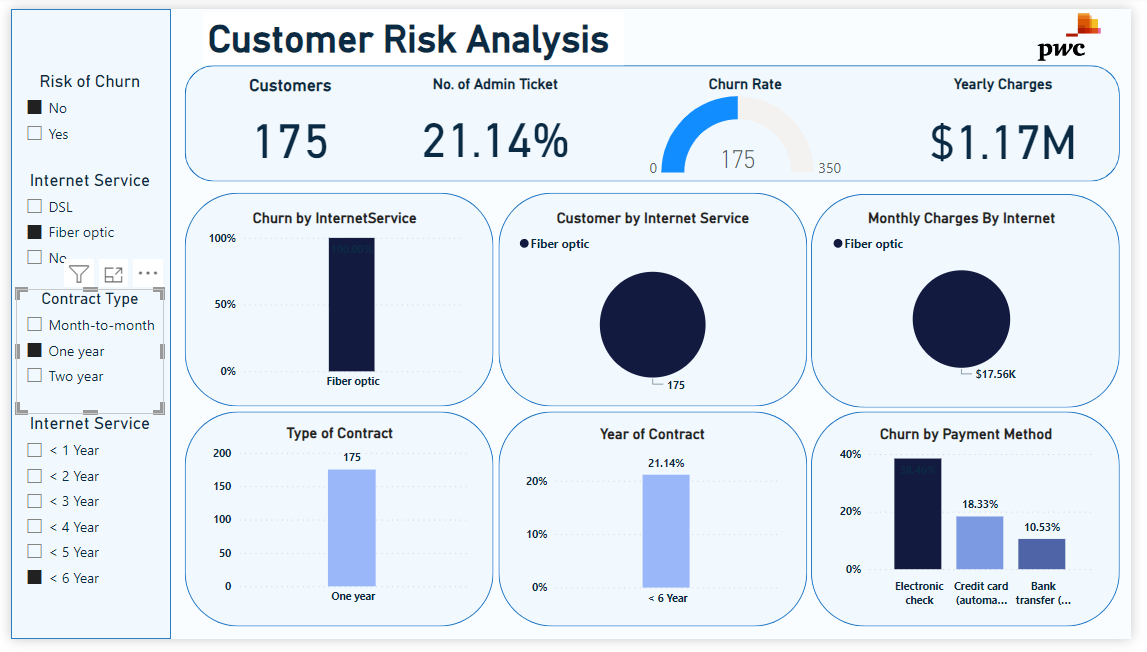

Layout of this report page (visuals, bound fields, positions):
{"tool":"powerbi","page":{"name":"Customer Risk Analysis","canvas":[1280,720],"ordinal":3},"visuals":[{"type":"shape","box":[198.6,210,352.9,244.3],"z":0},{"type":"shape","box":[198.6,64.3,1068.6,132.9],"z":1000},{"type":"shape","box":[0,0,182.9,720],"z":2000},{"type":"textbox","box":[220,4.3,480,60],"z":3000},{"type":"image","box":[1161.4,0,95.7,64.3],"z":4000},{"type":"card","title":"Customers","fields":{"Values":["CountNonNull(Churn.Customer_ID)"]},"box":[241.4,75.7,155.7,121.4],"z":5000},{"type":"card","title":"No. of Admin Ticket","fields":{"Values":["KPI_Churn.Churn Rate"]},"box":[457,75.7,192.9,121.4],"z":6000},{"type":"card","title":"Yearly Charges","fields":{"Values":["Sum(Churn.TotalCharges)"]},"box":[1028.2,75.6,210.4,121],"z":7000},{"type":"slicer","title":"Risk  of Churn","fields":{"Values":["Churn.Churn"]},"box":[5.7,71.4,168.6,90],"z":8000},{"type":"slicer","title":"Contract Type","fields":{"Values":["Churn.Contract"]},"box":[5.7,320,168.6,142.9],"z":9000},{"type":"gauge","title":"Churn Rate","fields":{"Y":["CountNonNull(Churn.Churn)"]},"box":[709.8,75.7,258.6,121.4],"z":10000},{"type":"columnChart","title":"Churn by InternetService","fields":{"Y":["CountNonNull(Churn.Churn)"],"Category":["Churn.InternetService"]},"box":[220,228.6,300,215.7],"z":11000},{"type":"shape","box":[198.6,460,352.9,245.7],"z":12000},{"type":"shape","box":[556.4,210,352.9,244.3],"z":13000},{"type":"shape","box":[914.3,211.4,352.9,244.3],"z":14000},{"type":"shape","box":[556.4,460,352.9,245.7],"z":15000},{"type":"shape","box":[914.3,460,352.9,245.7],"z":16000},{"type":"pieChart","title":"Customer by Internet Service","fields":{"Category":["Churn.InternetService"],"Y":["CountNonNull(Churn.Customer_ID)"]},"box":[575.7,228.6,315.7,215.7],"z":17000},{"type":"pieChart","title":"Monthly Charges By Internet","fields":{"Y":["Sum(Churn.MonthlyCharges)"],"Category":["Churn.InternetService"]},"box":[934.3,228.6,304.3,202.9],"z":18000},{"type":"columnChart","title":"Type of Contract","fields":{"Y":["CountNonNull(Churn.Churn)"],"Category":["Churn.Contract"]},"box":[225.7,474.3,300,215.7],"z":19000},{"type":"columnChart","title":"Year of Contract","fields":{"Y":["KPI_Churn.Churn Rate"],"Category":["Churn.Loyalty"]},"box":[582.9,475.7,300,215.7],"z":20000},{"type":"columnChart","title":"Churn by Payment Method","fields":{"Y":["KPI_Churn.Churn Rate"],"Category":["Churn.PaymentMethod"]},"box":[941.4,475.7,300,215.7],"z":21000},{"type":"slicer","title":"Internet Service","fields":{"Values":["Churn.InternetService"]},"box":[5.7,184.3,168.6,121.4],"z":22000},{"type":"slicer","title":"Internet Service","fields":{"Values":["Churn.Loyalty"]},"box":[5.7,462.9,168.6,208.6],"z":23000}]}

Visuals, with their boxes in screenshot pixels (x1, y1, x2, y2), scaled from the page's 1280x720 canvas onto the 1147x652 screenshot:
shape: left=178, top=190, right=494, bottom=411
shape: left=178, top=58, right=1136, bottom=179
shape: left=0, top=0, right=164, bottom=651
textbox: left=197, top=4, right=627, bottom=58
image: left=1041, top=0, right=1126, bottom=58
"Customers" card: left=216, top=69, right=356, bottom=178
"No. of Admin Ticket" card: left=410, top=69, right=582, bottom=178
"Yearly Charges" card: left=921, top=68, right=1110, bottom=178
"Risk  of Churn" slicer: left=5, top=65, right=156, bottom=146
"Contract Type" slicer: left=5, top=290, right=156, bottom=419
"Churn Rate" gauge: left=636, top=69, right=868, bottom=178
"Churn by InternetService" columnChart: left=197, top=207, right=466, bottom=402
shape: left=178, top=417, right=494, bottom=639
shape: left=499, top=190, right=815, bottom=411
shape: left=819, top=191, right=1136, bottom=413
shape: left=499, top=417, right=815, bottom=639
shape: left=819, top=417, right=1136, bottom=639
"Customer by Internet Service" pieChart: left=516, top=207, right=799, bottom=402
"Monthly Charges By Internet" pieChart: left=837, top=207, right=1110, bottom=391
"Type of Contract" columnChart: left=202, top=430, right=471, bottom=625
"Year of Contract" columnChart: left=522, top=431, right=791, bottom=626
"Churn by Payment Method" columnChart: left=844, top=431, right=1112, bottom=626
"Internet Service" slicer: left=5, top=167, right=156, bottom=277
"Internet Service" slicer: left=5, top=419, right=156, bottom=608
